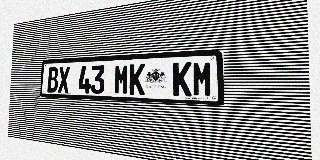3: (91, 65, 105, 94)
4: (78, 66, 91, 94)
B: (47, 67, 59, 93)
K: (173, 62, 192, 96), (129, 64, 145, 95)
M: (192, 61, 213, 97), (114, 64, 129, 95)
X: (58, 67, 70, 93)
